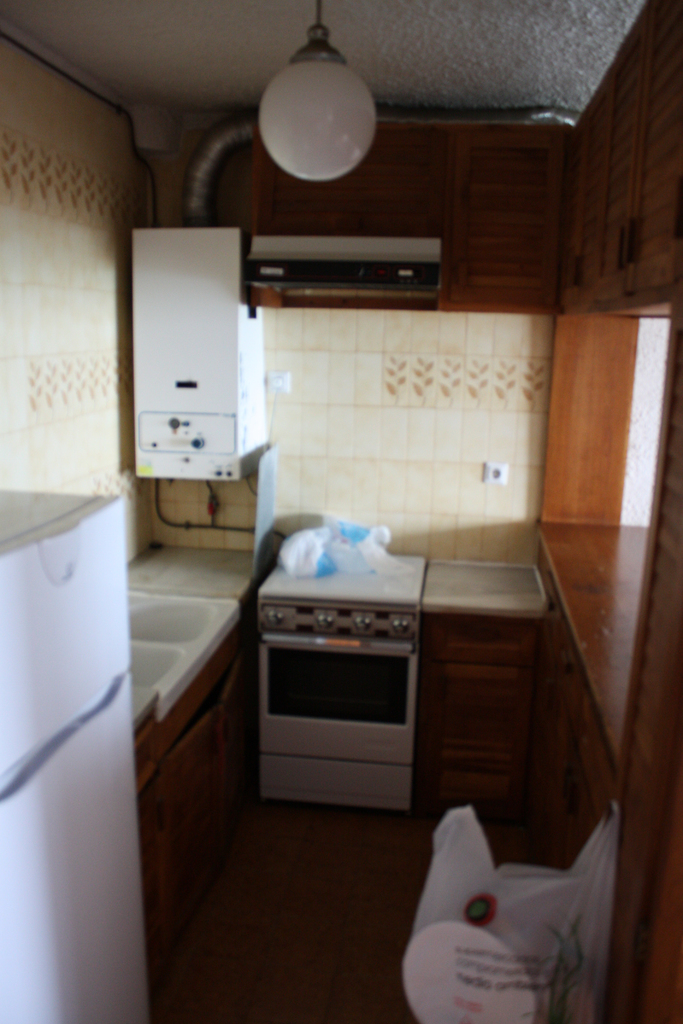cabinet door: (430, 653, 520, 752), (166, 741, 213, 868), (219, 697, 244, 831)
handle: (1, 690, 124, 757)
refrigerator door: (2, 752, 140, 1017), (0, 560, 128, 698)
